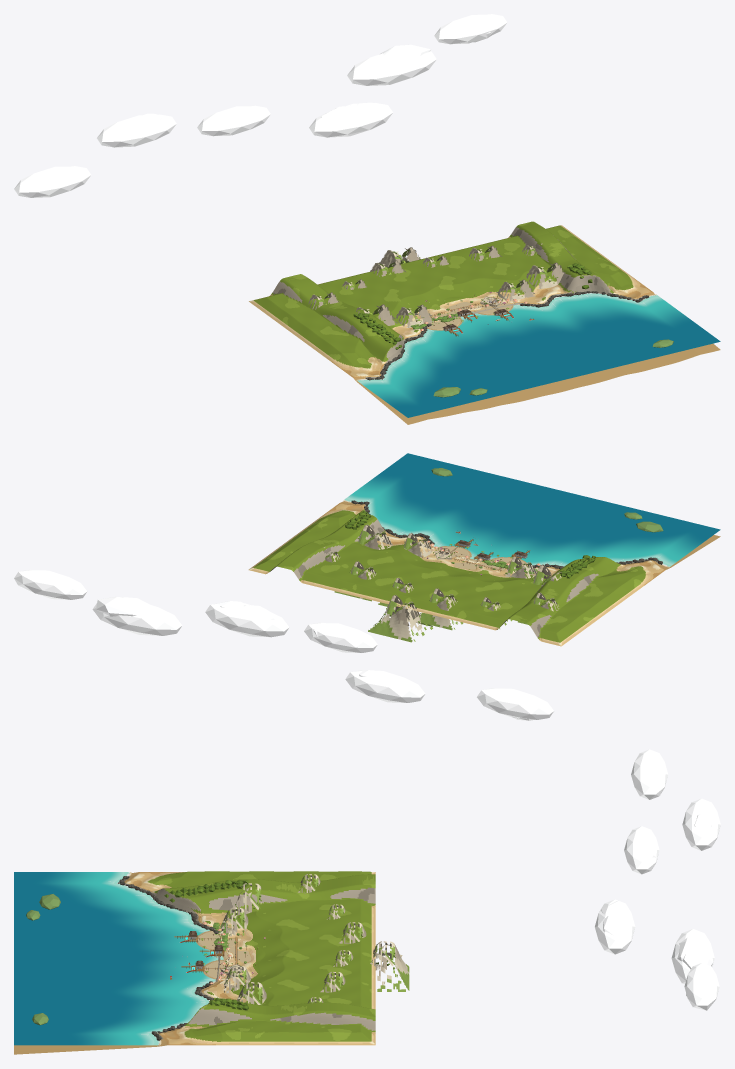
The model's file is bay-cove-replica.glb.
3 views of the same model, one above another, from view 1: azimuth 30°, elevation 25°; view 2: azimuth 150°, elevation 25°; view 3: azimuth 270°, elevation 25° (orthographic). The views are drawn at different scales.
Visible parts, largest first — view 1: GEO-cp_terrain, GEO-cp_water, GEO-cp_merged_9, GEO-cp_merged_8, GEO-cp_merged_6, GEO-cp_merged_5, GEO-cp_merged_7, GEO-cp_merged_10; view 2: GEO-cp_terrain, GEO-cp_water, GEO-cp_merged_9, GEO-cp_merged_8, GEO-cp_merged_6, GEO-cp_merged_5, GEO-cp_merged_7, GEO-cp_merged_10, GEO-hill.011, GEO-hill.007, GEO-hill.004, GEO-cp_merged_11 (+1 smaller); view 3: GEO-cp_terrain, GEO-cp_water, GEO-cp_merged_8, GEO-cp_merged_6, GEO-cp_merged_9, GEO-cp_merged_5, GEO-cp_merged_7, GEO-cp_merged_10, GEO-hill.011, GEO-cp_merged_11, GEO-cp_merged_22, GEO-hill.002.
Boxes of the visible parts, x1,y1,x2,y2 form: GEO-cp_terrain: (249,221,720,424); GEO-cp_water: (359,294,720,417); GEO-cp_merged_9: (347,44,436,85); GEO-cp_merged_8: (309,102,392,137); GEO-cp_merged_6: (97,113,176,147); GEO-cp_merged_5: (14,166,90,197); GEO-cp_merged_7: (197,105,270,136); GEO-cp_merged_10: (434,14,507,44); GEO-cp_terrain: (248,501,720,646); GEO-cp_water: (346,453,720,566); GEO-cp_merged_9: (92,596,182,635); GEO-cp_merged_8: (205,601,289,637); GEO-cp_merged_6: (345,670,425,702); GEO-cp_merged_5: (477,688,553,720); GEO-cp_merged_7: (304,622,377,652); GEO-cp_merged_10: (14,569,87,599); GEO-hill.011: (368,595,432,642); GEO-hill.007: (413,588,463,630); GEO-hill.004: (358,524,392,549); GEO-cp_merged_11: (345,511,595,576); GEO-cp_terrain: (14,871,375,1054); GEO-cp_water: (14,872,221,1045); GEO-cp_merged_8: (595,899,635,954); GEO-cp_merged_6: (682,798,720,850); GEO-cp_merged_9: (671,929,714,984); GEO-cp_merged_5: (631,749,668,799); GEO-cp_merged_7: (624,826,659,874); GEO-cp_merged_10: (684,963,719,1010); GEO-hill.011: (370,941,409,991); GEO-cp_merged_11: (164,880,248,1010); GEO-cp_merged_22: (119,876,218,1039); GEO-hill.002: (220,907,248,936).
Size of the model in its own units: 556 by 111 by 586.
